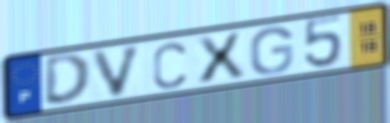5: (302, 13, 344, 71)
C: (151, 40, 189, 91)
D: (41, 51, 94, 107)
G: (248, 25, 296, 77)
V: (90, 42, 146, 100)
X: (192, 30, 248, 86)
